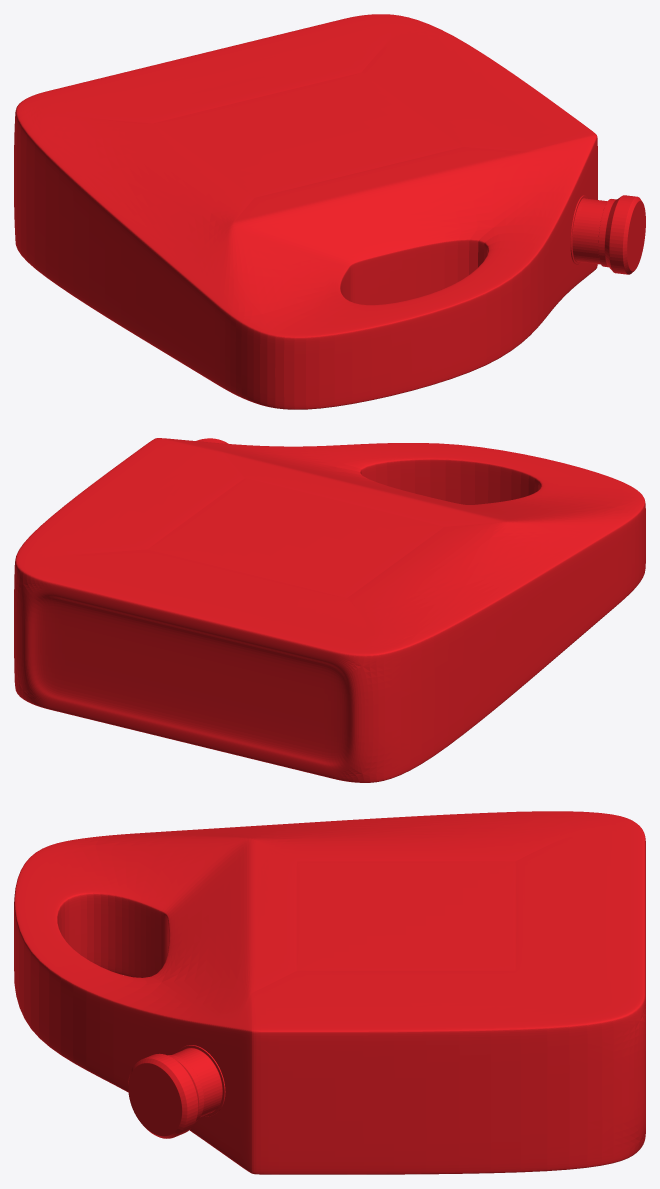
File: gas.obj
3 views of the same model, one above another, from view 1: azimuth 30°, elevation 25°; view 2: azimuth 150°, elevation 25°; view 3: azimuth 270°, elevation 25° (orthographic). The views are drawn at different scales.
Parts seen in each view (by area): view 1: Object.1; view 2: Object.1; view 3: Object.1.
Part boxes in pixels (x1,y1,x2,y2): Object.1: (14,14,645,409); Object.1: (14,438,645,782); Object.1: (14,811,645,1174).
Bounding box in the file's own units: 58.94 × 17 × 66.85.
